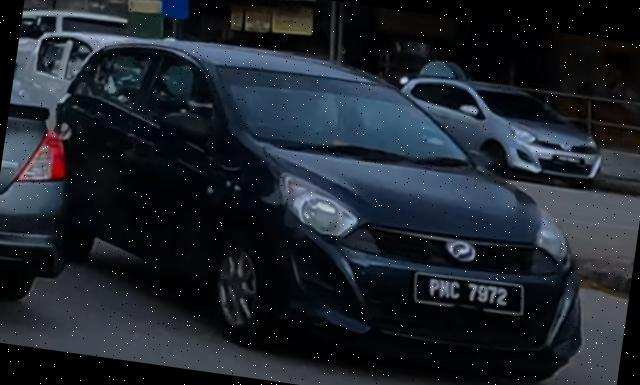License_Plate: (410, 268, 529, 320)
car: (26, 20, 618, 385)
